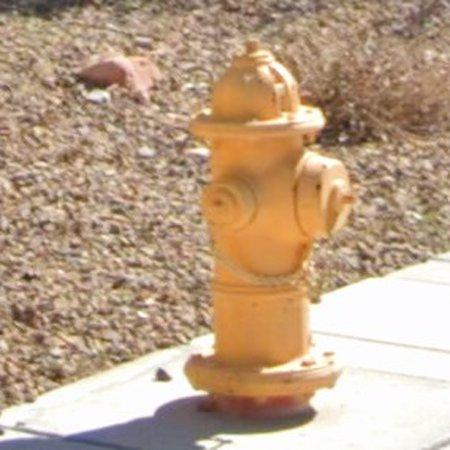a fire hydrant: (185, 42, 356, 418)
